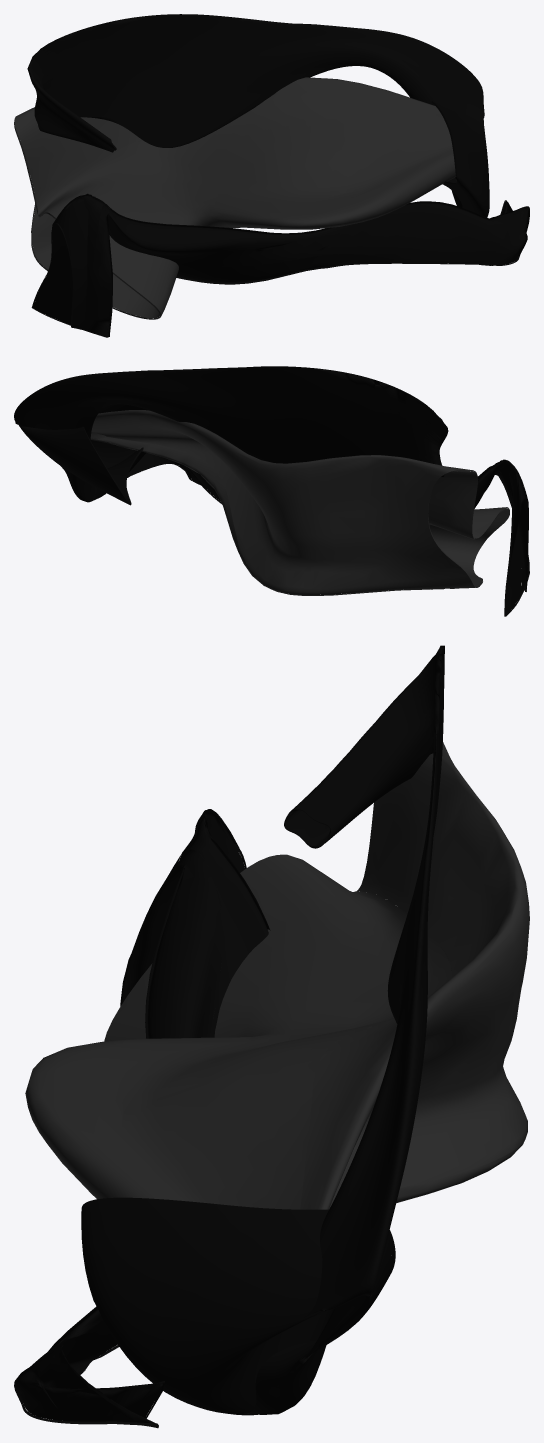
File: -blck-v62.glb
The picture shows the model from 3 angles, top to bottom: view 1: azimuth 30°, elevation 25°; view 2: azimuth 150°, elevation 25°; view 3: azimuth 270°, elevation 25°; orthographic projection. The views are drawn at different scales.
Parts seen in each view (by area): view 1: Merged Objects, 冬 blck; view 2: 冬 blck, Merged Objects; view 3: 冬 blck, Merged Objects.
Part boxes in pixels (x1,y1,x2,y2): Merged Objects: [27, 14, 529, 337]; 冬 blck: [14, 77, 456, 319]; 冬 blck: [90, 410, 509, 595]; Merged Objects: [14, 366, 529, 616]; 冬 blck: [25, 742, 529, 1209]; Merged Objects: [14, 645, 444, 1428].
Size of the model in its own units: 2.94 by 1.43 by 1.47.
2 materials, 1 textured.
